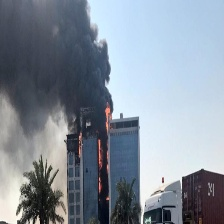fire: (95, 137, 112, 204), (103, 102, 115, 132), (77, 133, 85, 159)
smoke: (1, 1, 122, 119)
